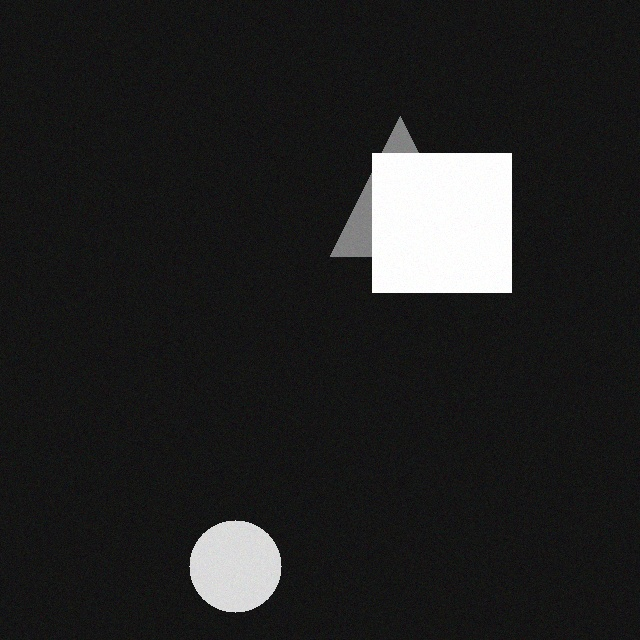circle: (182, 515, 274, 607)
square: (365, 148, 504, 287)
triangle: (323, 111, 463, 251)
